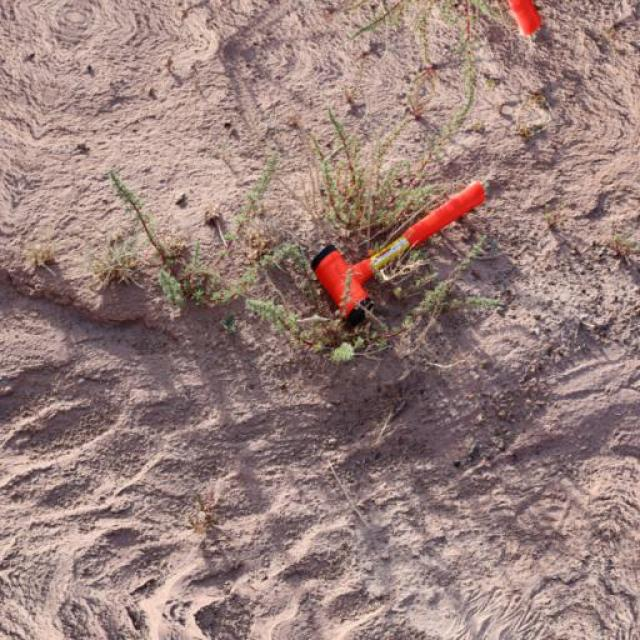mallet: (309, 178, 486, 326)
